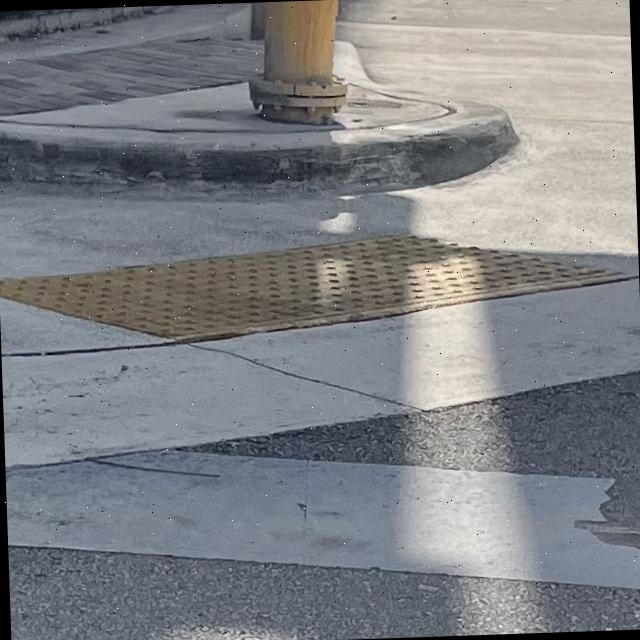curb: (0, 103, 518, 200)
